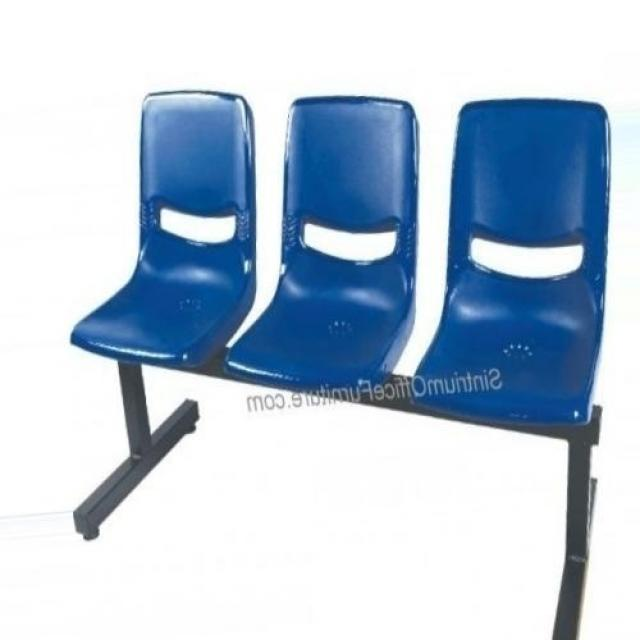Chair: (72, 92, 617, 640)
